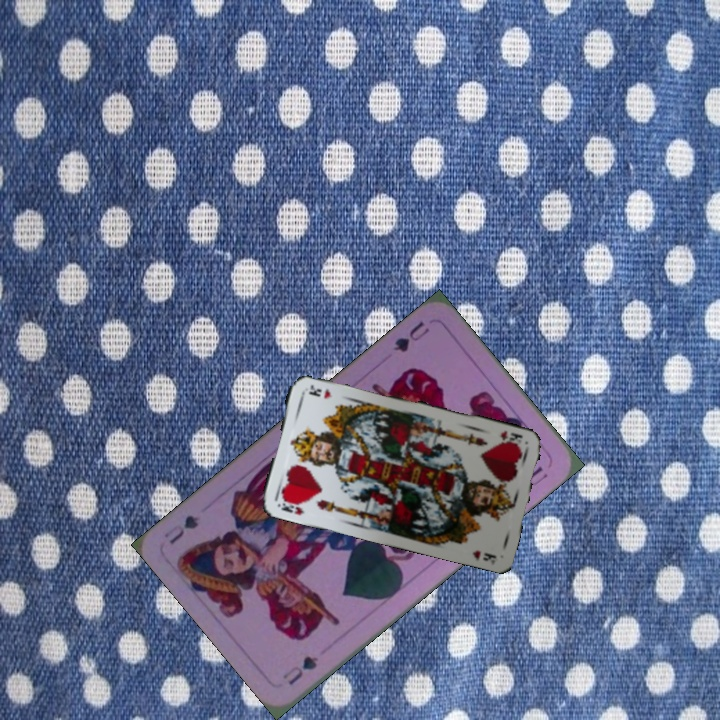GU: (389, 317, 433, 355), (278, 651, 321, 688)
HK: (275, 494, 307, 518), (496, 427, 525, 449)
